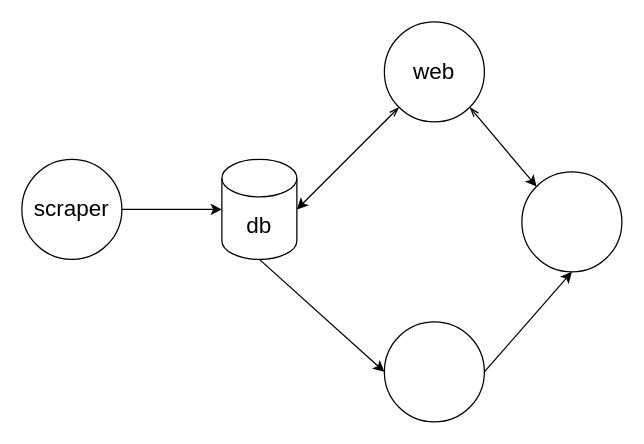
The diagram is 644 pixels wide and 444 high, and some of its shapes have lost their labels. The centre of each missing label's shape, as x and y in pixels:
match engine: the point at 571,221
simulator: the point at 433,371
